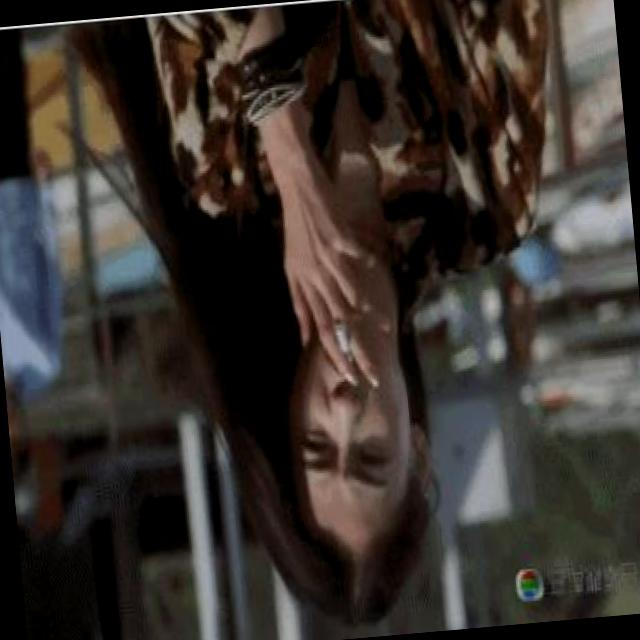cigarette: (318, 313, 362, 376)
